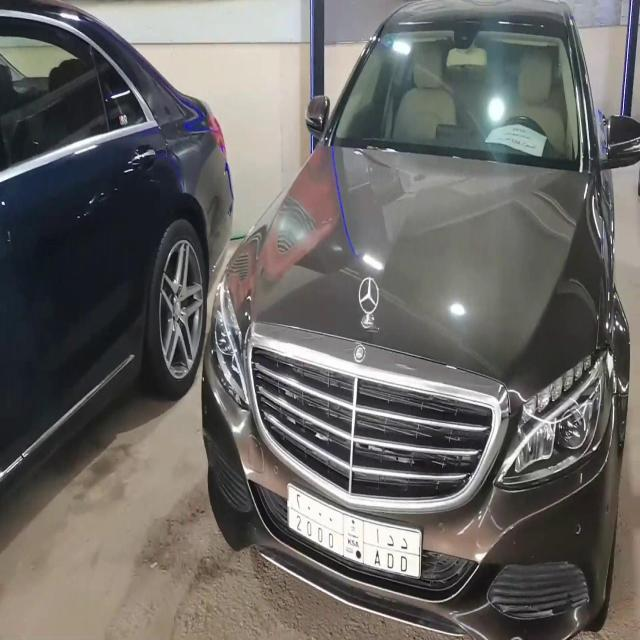license_plate: (276, 474, 430, 596)
